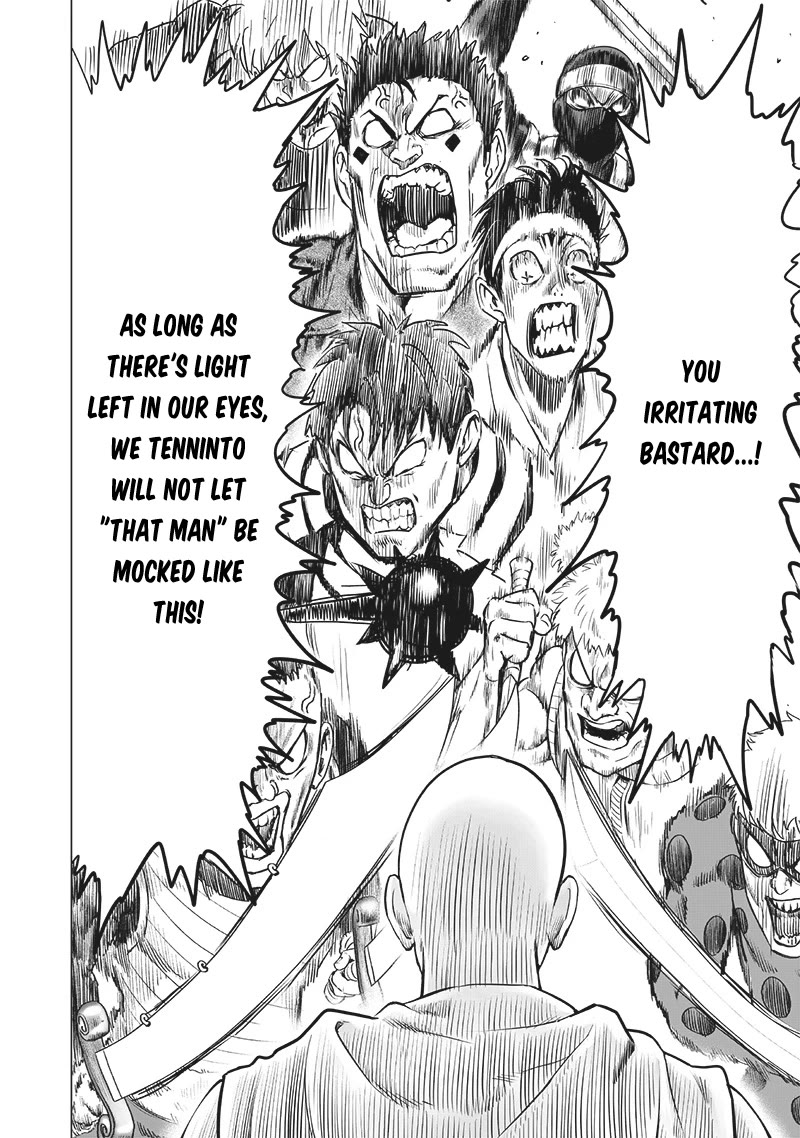bubble: (70, 13, 338, 950), (547, 7, 800, 810)
